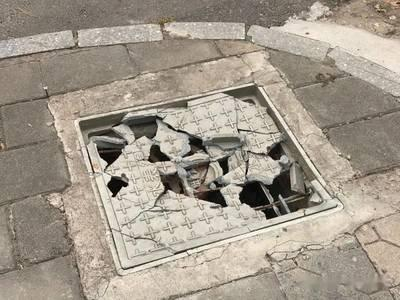wellcover: (70, 81, 336, 267)
